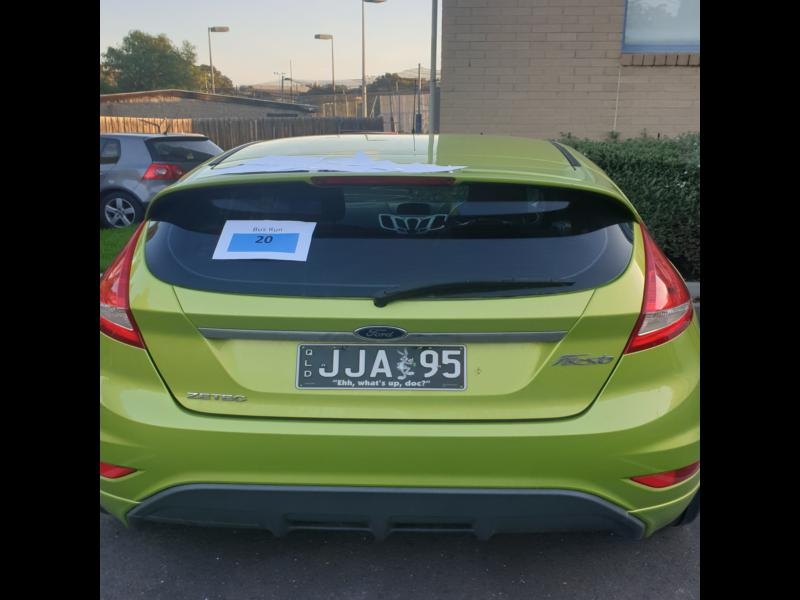BusRun: (226, 233, 300, 252)
PlateNo: (298, 342, 469, 389)
